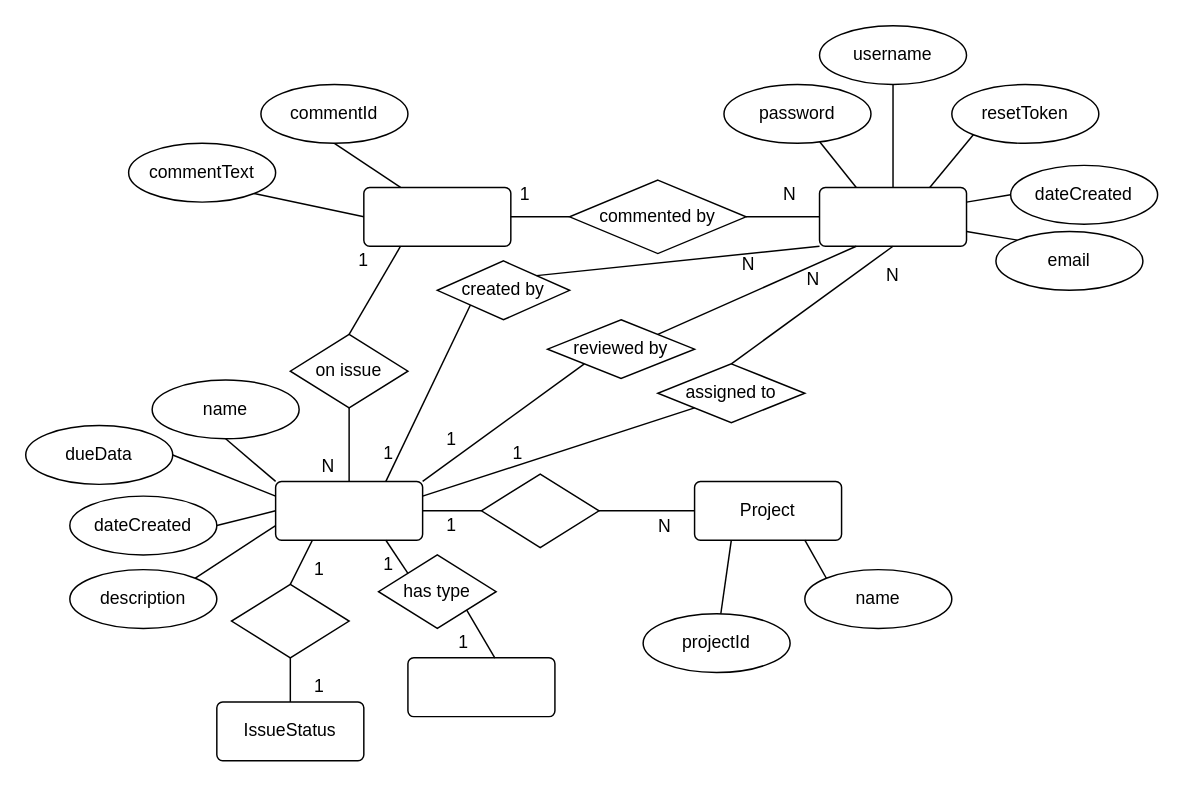
The diagram is 1183 pixels wide and 786 high, and some of its shapes have lost their labels. Here are the shapes that lost their labels. From the top down, the centre of each, then its label:
point (436, 216): Comment
point (892, 216): User
point (348, 510): Issue
point (539, 510): has issue
point (289, 620): has status
point (480, 686): IssueType
